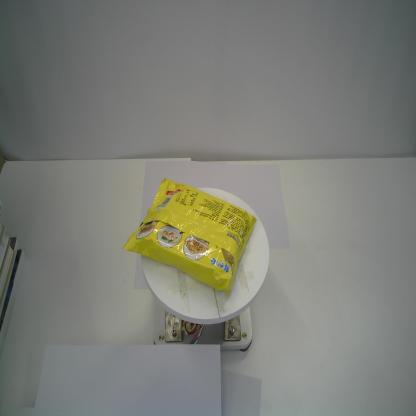Instant Noodles: (120, 177, 257, 297)
